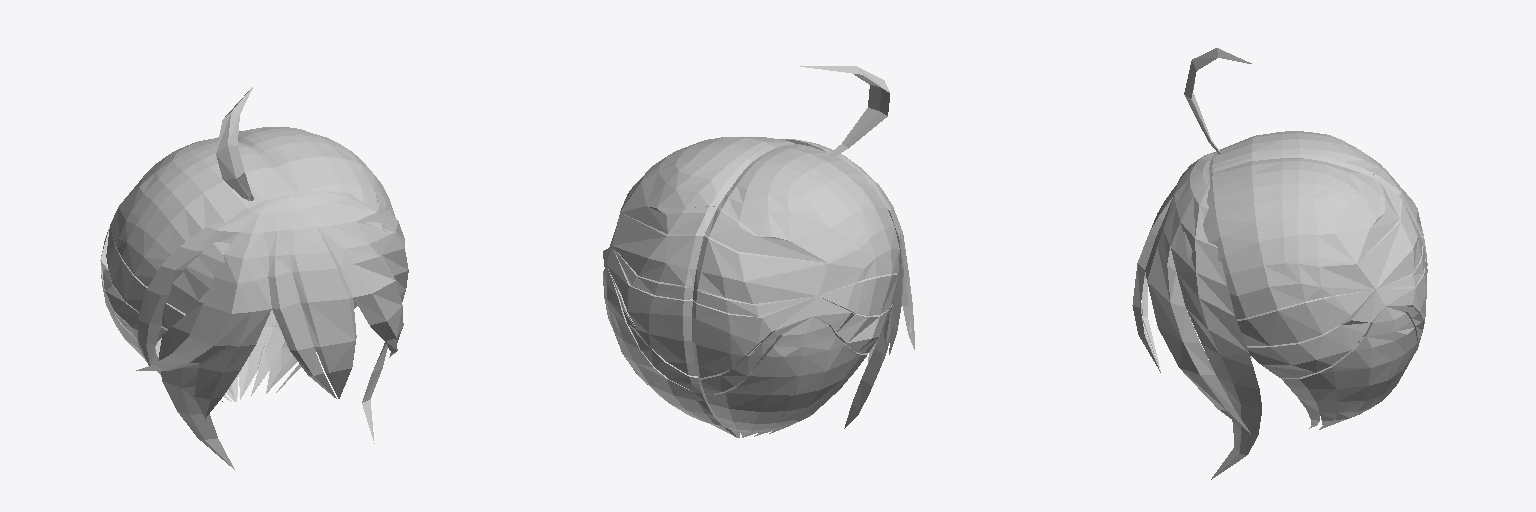
The model's file is malehair.obj.
The picture shows the model from 3 angles: view 1: azimuth 30°, elevation 25°; view 2: azimuth 150°, elevation 25°; view 3: azimuth 270°, elevation 25°; orthographic projection.
Bounding box in the file's own units: 33.14 × 43.45 × 31.59.